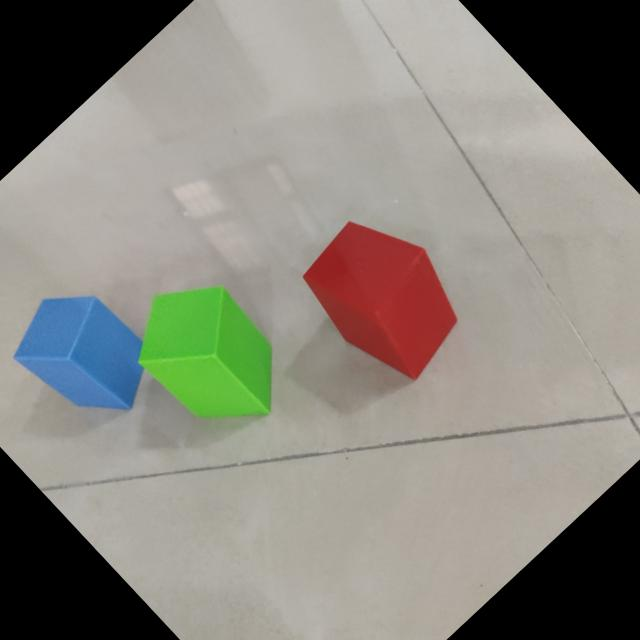blue: (14, 295, 145, 413)
green: (139, 286, 275, 420)
red: (303, 221, 460, 382)
